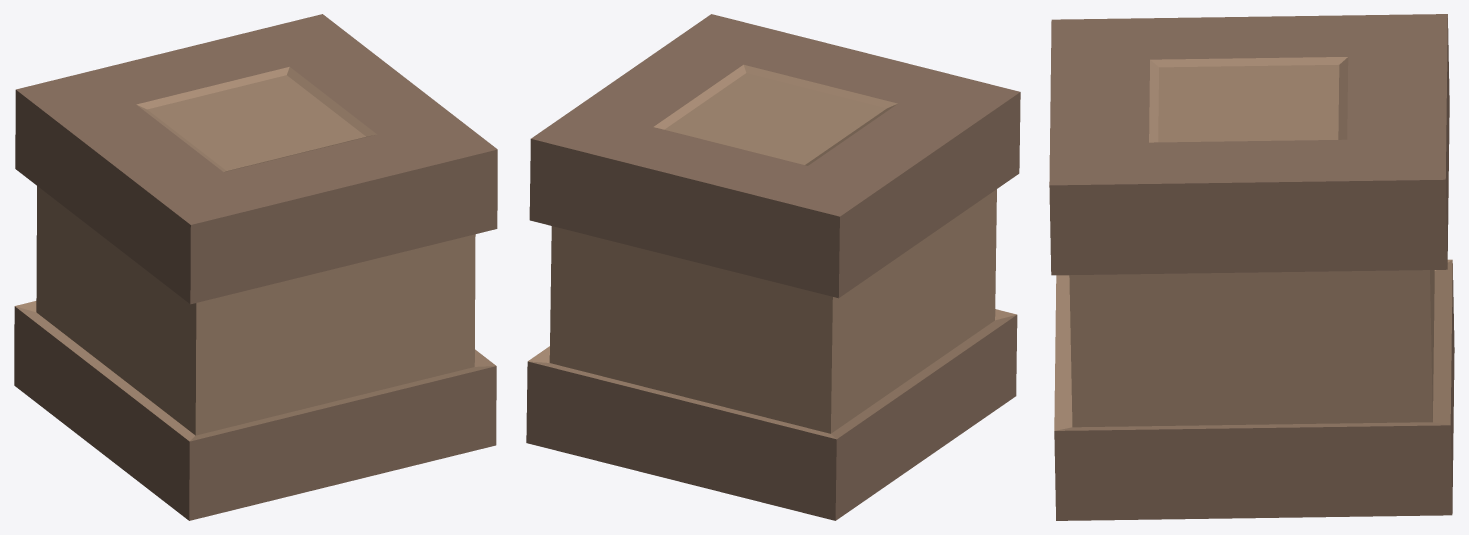
The picture shows the model from 3 angles, left to right: view 1: azimuth 30°, elevation 25°; view 2: azimuth 150°, elevation 25°; view 3: azimuth 270°, elevation 25°; orthographic projection. The views are drawn at different scales.
Parts seen in each view (by area): view 1: pCube25; view 2: pCube25; view 3: pCube25.
Part boxes in pixels (x1=…): pCube25: x1=14, y1=14, x2=497, y2=520; pCube25: x1=526, y1=14, x2=1020, y2=520; pCube25: x1=1049, y1=14, x2=1454, y2=520.
Size of the model in its own units: 0.6252 by 0.5912 by 0.6327.
